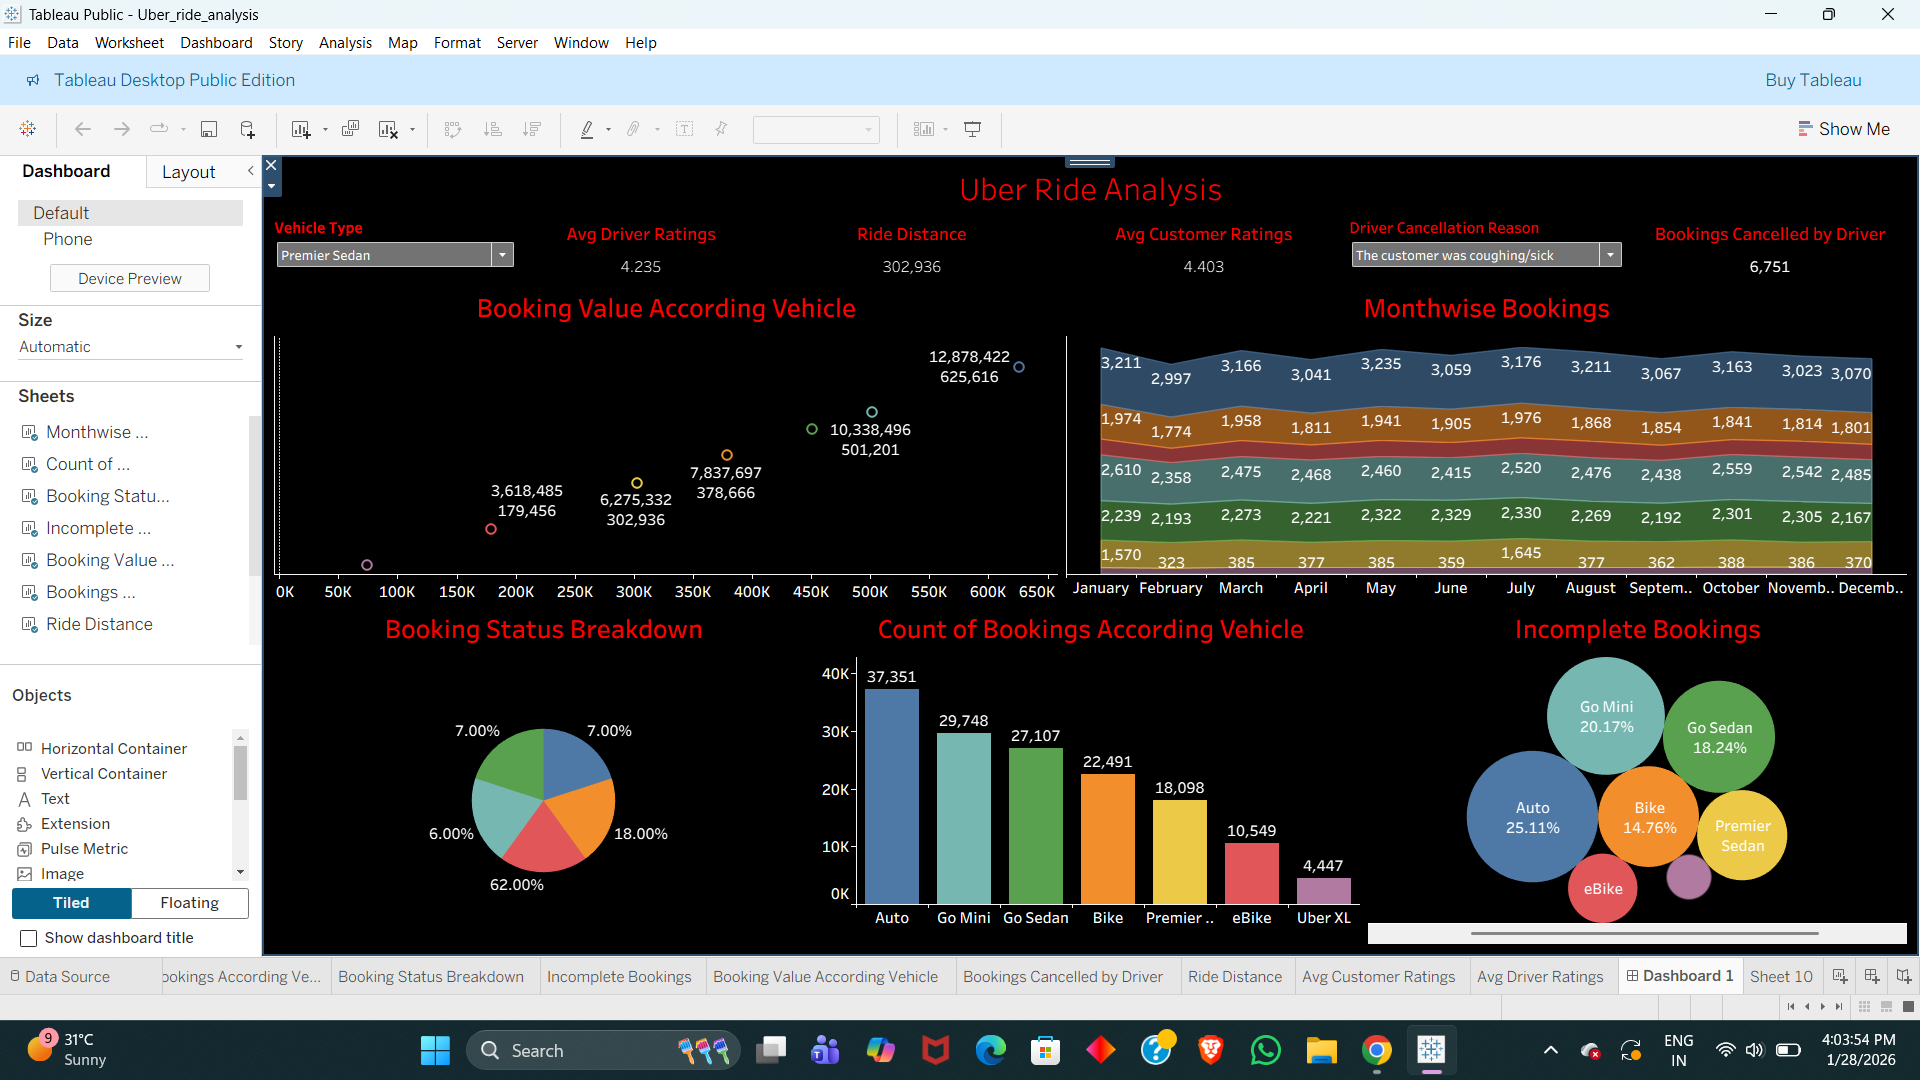

The page's visual inventory and layout, read from the dashboard file:
{"tool":"tableau","page":{"name":"Dashboard 1","canvas":[1000,1000],"units":"permille","ordinal":0},"visuals":[{"type":"title","box":[4.8,10,990.3,62.4]},{"type":"filter","title":"Ride Distance","param":"[federated.0jqvo261eamfqp144j6ee0cl2hm9].[none:Vehicle Type:nk]","box":[4.8,72.4,151.5,86.5]},{"type":"worksheet","title":"Avg Driver Ratings","mark":"Automatic","box":[156.3,72.4,144.8,86.5]},{"type":"worksheet","title":"Ride Distance","mark":"Automatic","box":[301.1,72.4,181.7,86.5]},{"type":"worksheet","title":"Avg Customer Ratings","mark":"Automatic","box":[482.8,72.4,170.8,86.5]},{"type":"filter","title":"Bookings Cancelled by Driver","param":"[federated.0jqvo261eamfqp144j6ee0cl2hm9].[none:Driver Cancellation Reason:nk]","box":[653.6,72.4,171.4,86.5]},{"type":"worksheet","title":"Bookings Cancelled by Driver","mark":"Automatic","box":[825,72.4,170.2,86.5]},{"type":"worksheet","title":"Booking Value According Vehicle","mark":"Automatic","rows":["Booking Value"],"cols":["Ride Distance"],"box":[4.8,158.9,477.9,400.9]},{"type":"worksheet","title":"Monthwise Bookings","mark":"Area","rows":["Booking ID"],"cols":["Date"],"box":[482.8,158.9,512.4,400.9]},{"type":"worksheet","title":"Booking Status Breakdown","mark":"Pie","box":[4.8,559.8,330.1,430.2]},{"type":"worksheet","title":"Count of Bookings According Vehicle","mark":"Bar","rows":["Booking ID"],"cols":["Vehicle Type"],"box":[334.9,559.8,330.1,430.2]},{"type":"worksheet","title":"Incomplete Bookings","mark":"Circle","box":[665,559.8,330.1,430.2]}]}

Visuals, with their boxes on the dashboard's canvas, which has no fixed pixel size, in thousandths of its width and height (x1, y1, x2, y2). These are canvas units, not pixel positions in the 1920x1080 screenshot, which may show the page scaled, cropped or inside an application window:
title: x1=5 y1=10 x2=995 y2=72
"Ride Distance" filter: x1=5 y1=72 x2=156 y2=159
"Avg Driver Ratings" worksheet: x1=156 y1=72 x2=301 y2=159
"Ride Distance" worksheet: x1=301 y1=72 x2=483 y2=159
"Avg Customer Ratings" worksheet: x1=483 y1=72 x2=654 y2=159
"Bookings Cancelled by Driver" filter: x1=654 y1=72 x2=825 y2=159
"Bookings Cancelled by Driver" worksheet: x1=825 y1=72 x2=995 y2=159
"Booking Value According Vehicle" worksheet: x1=5 y1=159 x2=483 y2=560
"Monthwise Bookings" worksheet (Area marks): x1=483 y1=159 x2=995 y2=560
"Booking Status Breakdown" worksheet (Pie marks): x1=5 y1=560 x2=335 y2=990
"Count of Bookings According Vehicle" worksheet (Bar marks): x1=335 y1=560 x2=665 y2=990
"Incomplete Bookings" worksheet (Circle marks): x1=665 y1=560 x2=995 y2=990
